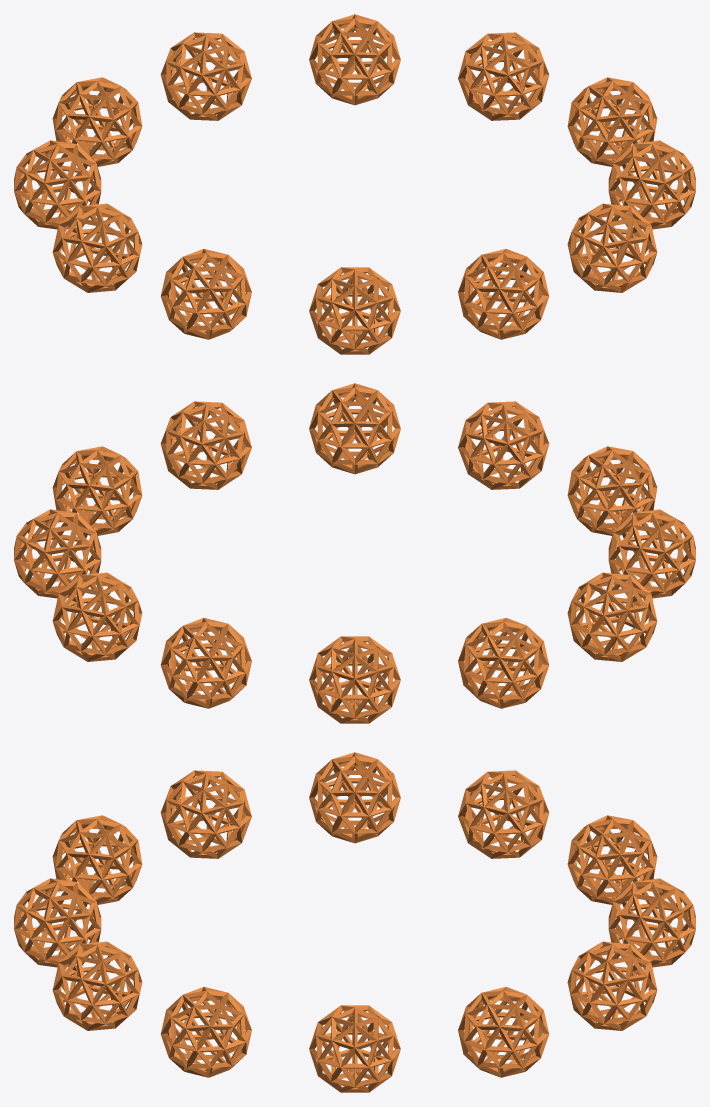
3 renders of one model, top to bottom at view 1: azimuth 30°, elevation 25°; view 2: azimuth 150°, elevation 25°; view 3: azimuth 270°, elevation 25°, orthographic.
Parts seen in each view (by area): view 1: Icosphere.010; view 2: Icosphere.010; view 3: Icosphere.010.
Part boxes in pixels (box(x1,y1,x2,y2)): Icosphere.010: box(14, 14, 695, 354); Icosphere.010: box(14, 383, 695, 723); Icosphere.010: box(14, 752, 695, 1092).
Bounding box in the file's own units: 6.88 × 0.9271 × 6.88.
